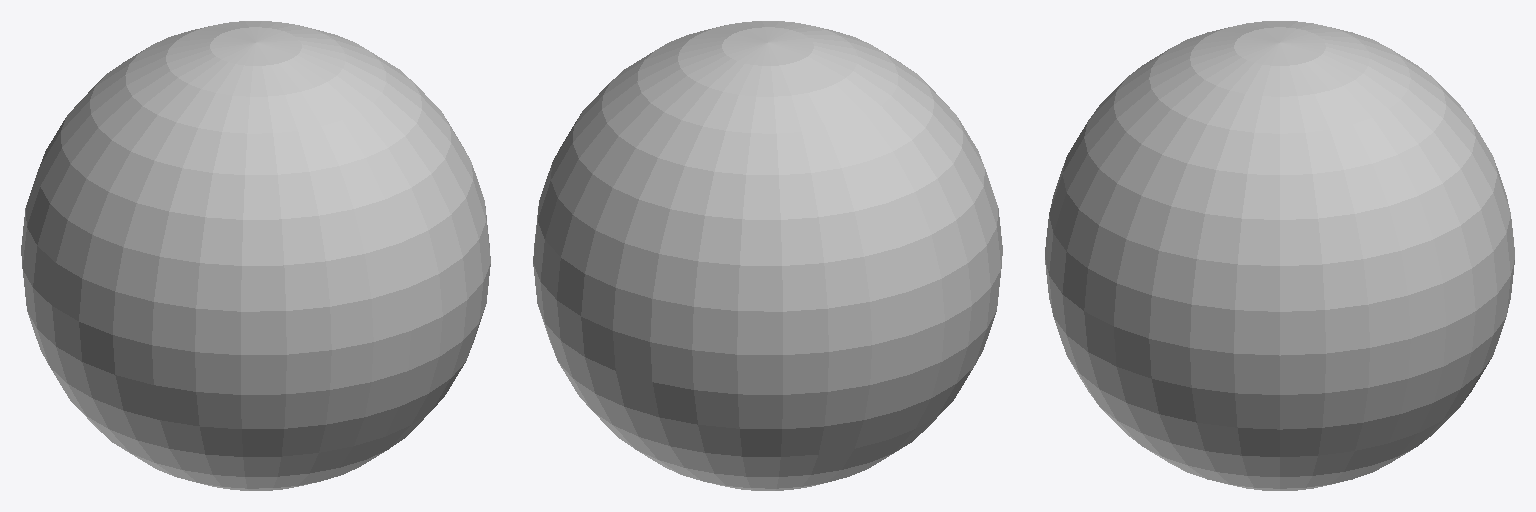
Rendered from water1.obj.
The picture shows the model from 3 angles: view 1: azimuth 30°, elevation 25°; view 2: azimuth 150°, elevation 25°; view 3: azimuth 270°, elevation 25°; orthographic projection.
Visible parts, largest first — view 1: Sphere.002; view 2: Sphere.002; view 3: Sphere.002.
Part boxes in pixels (x1,y1,x2,y2): Sphere.002: (21,21,490,490); Sphere.002: (533,21,1002,490); Sphere.002: (1045,21,1514,490).
Bounding box in the file's own units: 0.283 × 0.283 × 0.283.